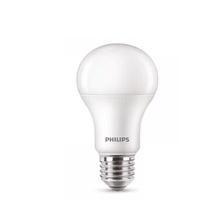light_bulb: (68, 36, 161, 193)
